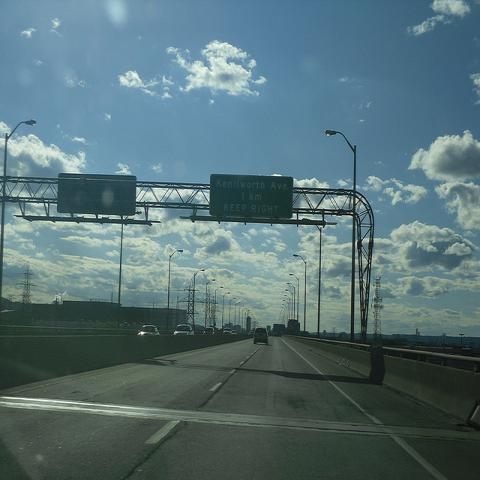car: (137, 324, 160, 335), (173, 324, 195, 335), (203, 327, 215, 334), (223, 328, 232, 335), (248, 330, 254, 338), (231, 330, 237, 335), (273, 333, 277, 336)
truck: (253, 325, 268, 345)
